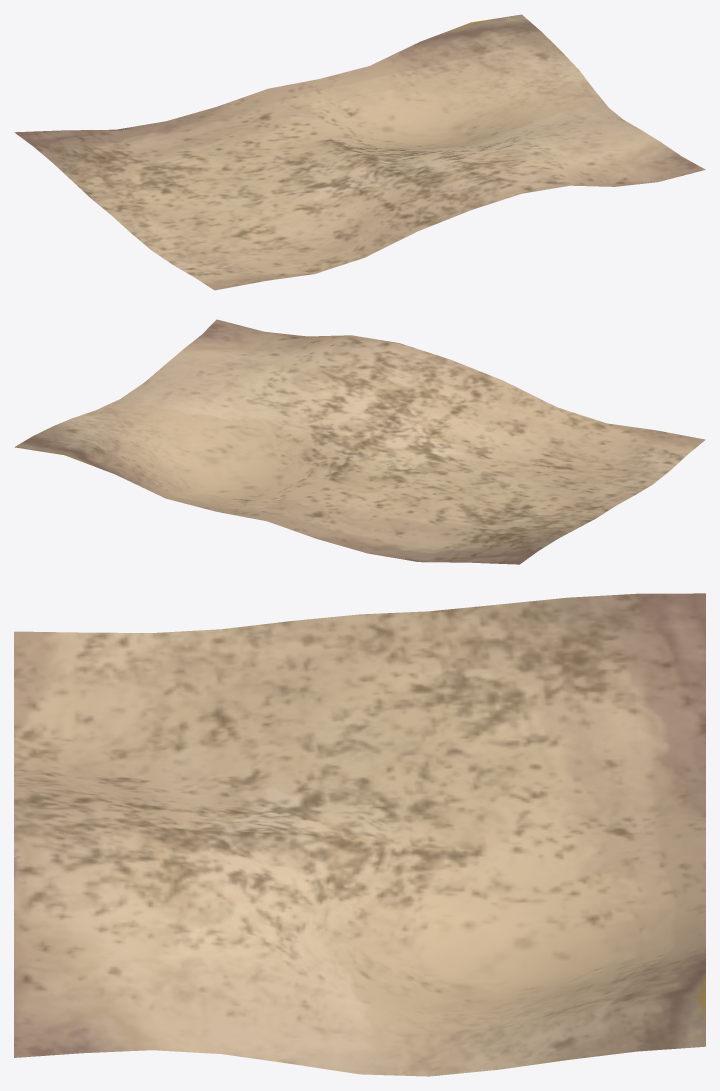
Rendered from Paper_2.fbx.
3 renders of one model, top to bottom at view 1: azimuth 30°, elevation 25°; view 2: azimuth 150°, elevation 25°; view 3: azimuth 270°, elevation 25°, orthographic. The views are drawn at different scales.
Visible parts, largest first — view 1: pPlane1; view 2: pPlane1; view 3: pPlane1.
Boxes of the visible parts, x1,y1,x2,y2 form: pPlane1: (14, 14, 705, 290); pPlane1: (14, 319, 705, 564); pPlane1: (14, 593, 705, 1076).
Bounding box in the file's own units: 16.71 × 1.52 × 11.05.
